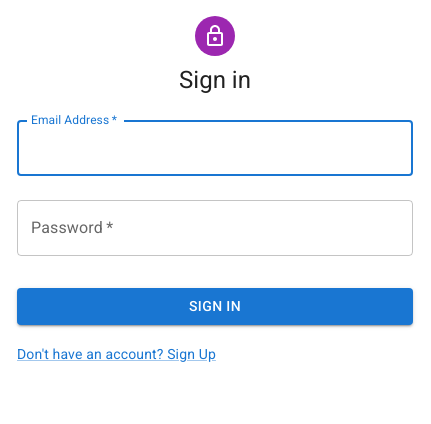
it: Login Component › shows validation errors when form is submitted empty
Click the button "Sign In": (215, 306) [17, 288, 413, 324]
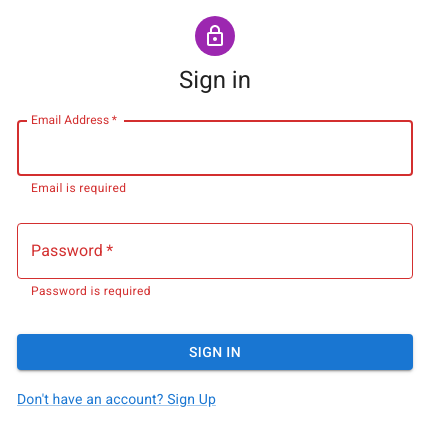
Expected: the text "Email is required" is shown, [31, 181, 126, 195]
Expected: the text "Password is required" is shown, [31, 284, 151, 298]
